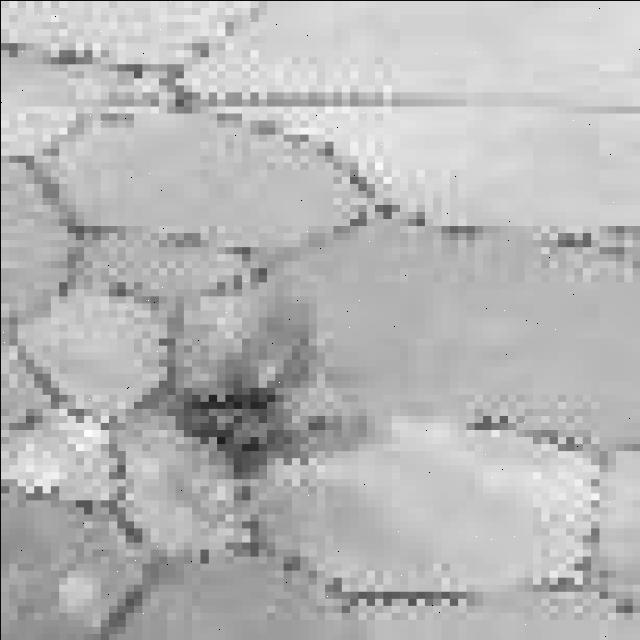good_void: (170, 315, 337, 495)
